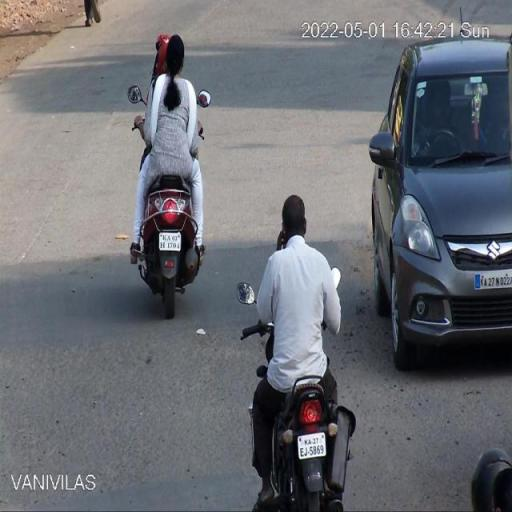numberplate: (297, 433, 327, 456)
using mobile: (276, 218, 288, 254)
